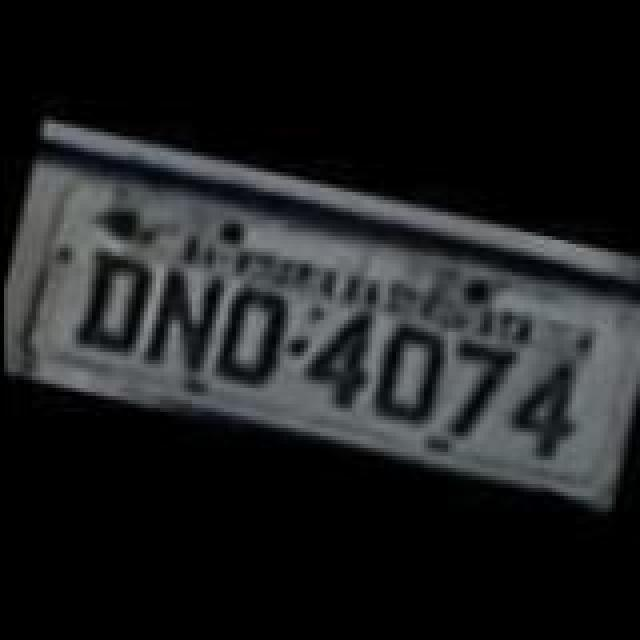4: (292, 294, 388, 418), (494, 346, 590, 466)
7: (428, 334, 512, 442)
D: (70, 238, 162, 358)
N: (138, 256, 230, 376)
O: (364, 316, 452, 432), (206, 278, 290, 394)
